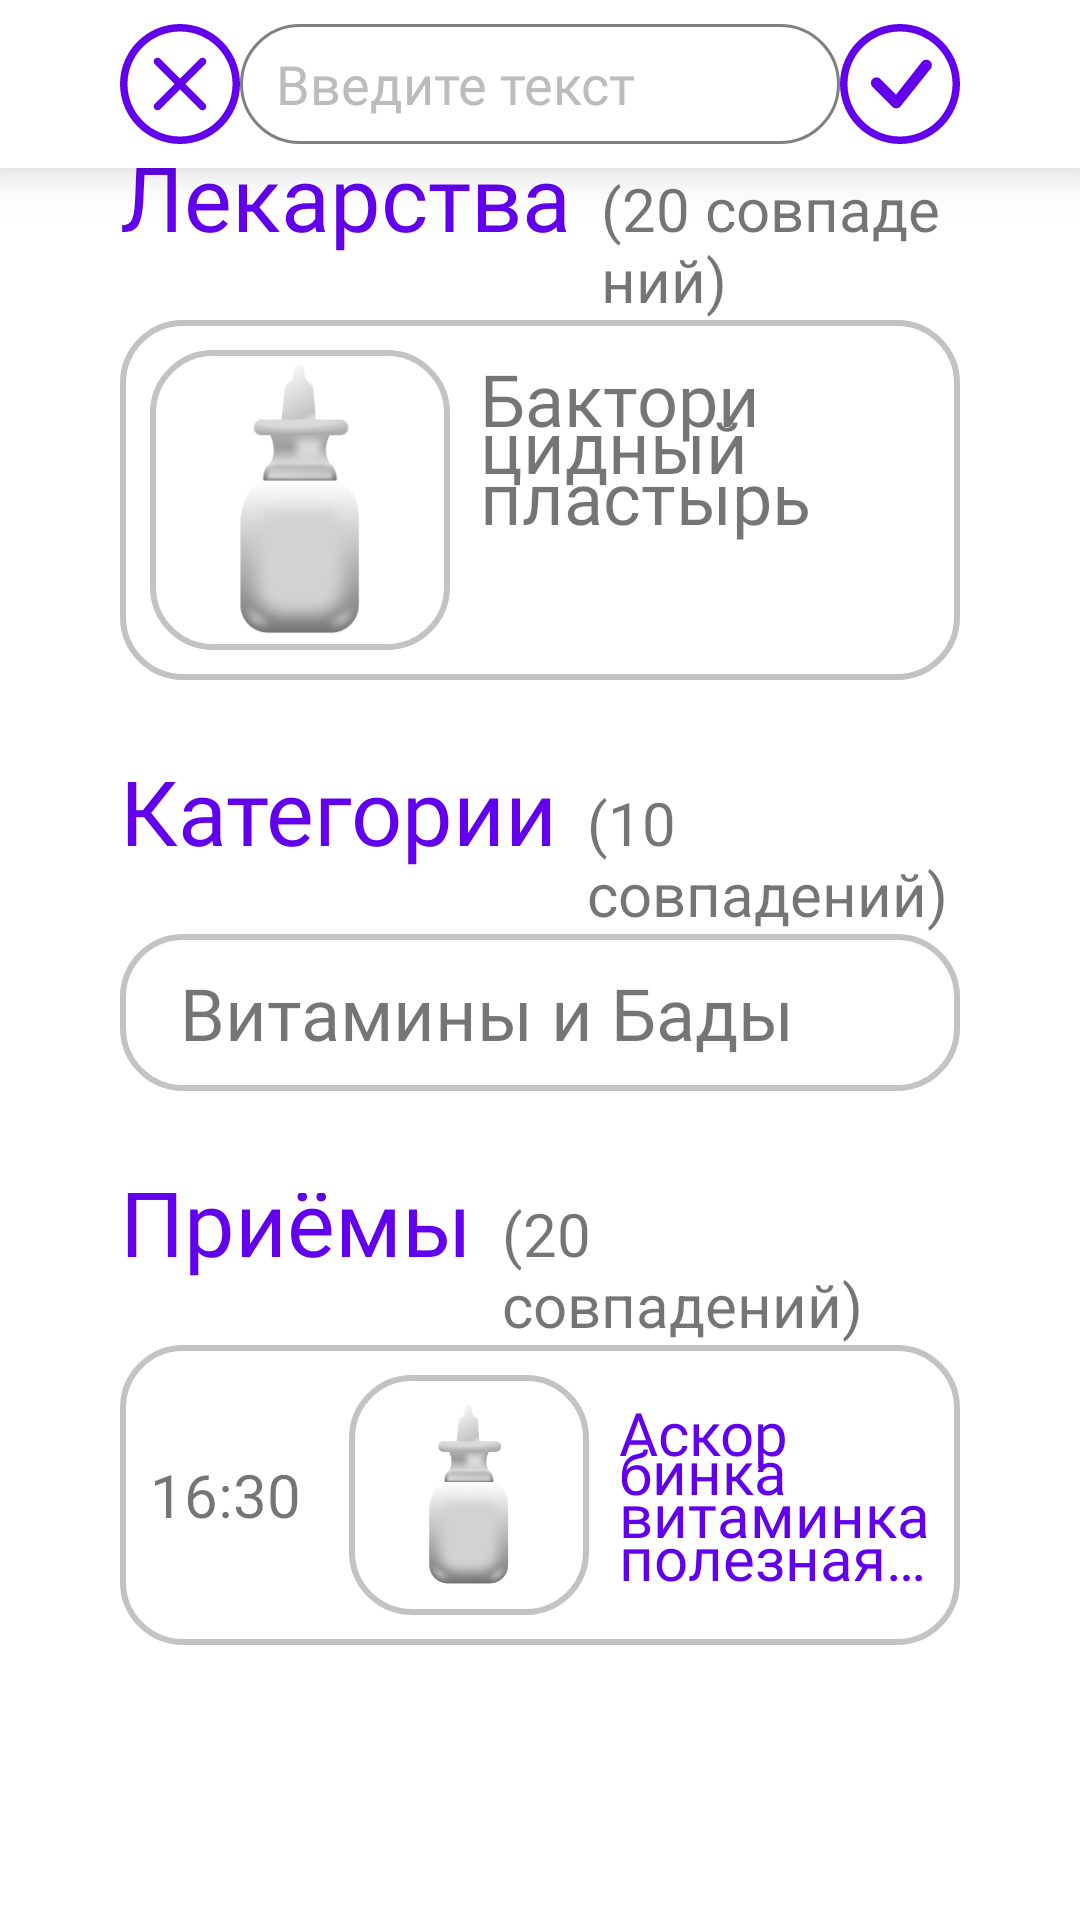

Point at icon controls on the screen. Image size 1080w x 1920h, points as (x,y).
картинка спрей: (299,505), (468,1499)
